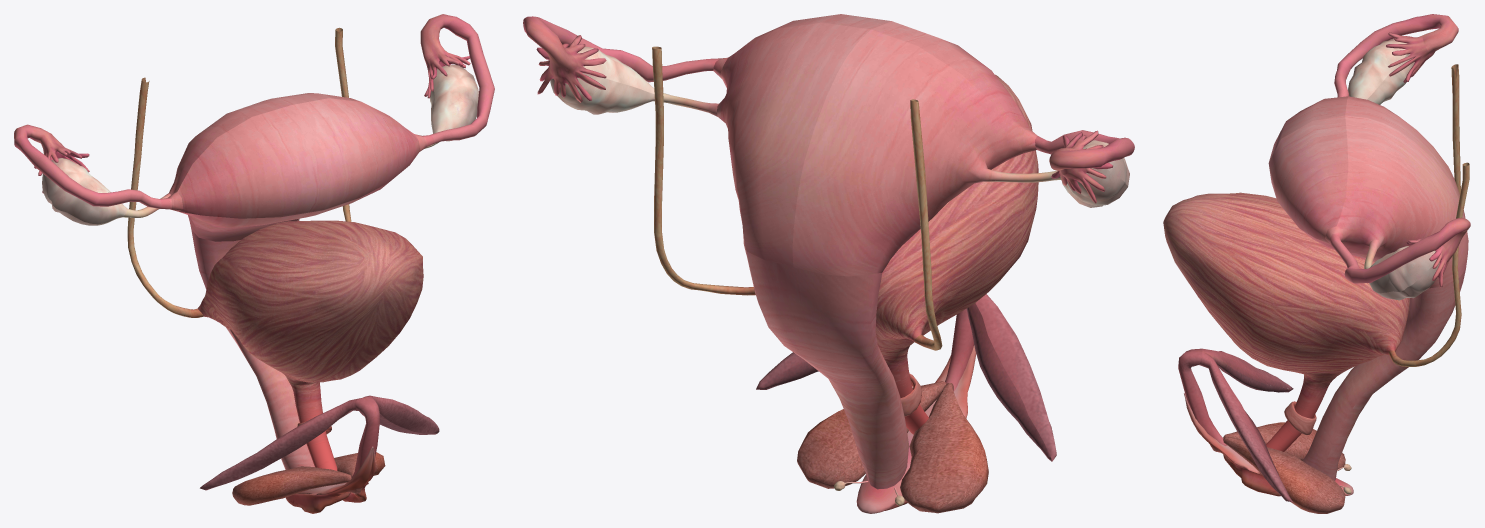
File: female_urinary_system.fbx
3 views of the same model, side by side, from view 1: azimuth 30°, elevation 25°; view 2: azimuth 150°, elevation 25°; view 3: azimuth 270°, elevation 25° (orthographic). The views are drawn at different scales.
Visible parts, largest first — view 1: Bladder__body__R_half_Female_300024, Uterus__fundus__R_half_Female_300031, Uterus__fundus__L_half_Female_001463, Bladder__body__L_half_Female_300019, Uterus__body__R_half_Female_300033, Vagina_Female_001467, Fallopian_tube__oviduct__uterine_tubes__salpinx___L_Fem_6a12, Fallopian_tube__oviduct__uterine_tubes__salpinx___R_Fem_e0de, Clitoral_crus__R_Female_302544, Vestibular_bulb__clitoral_bulb___R_Female_302549, Ovary__anterior_half__L_Female_020388, Ovary__anterior_half__R_Female_020390 (+11 smaller); view 2: Uterus__body__R_half_Female_300033, Uterus__body__L_half_Female_001462, Vagina_Female_001467, Bladder__body__R_half_Female_300024, Vestibular_bulb__clitoral_bulb___R_Female_302549, Vestibular_bulb__clitoral_bulb___L_Female_302548, Clitoral_crus__R_Female_302544, Fallopian_tube__oviduct__uterine_tubes__salpinx___L_Fem_6a12, Uterus__fundus__R_half_Female_300031, Ureter__L_Female_001582, Corpus_cavernosum__R_Female_302545, Ureter__R_Female_001575 (+12 smaller); view 3: Bladder__body__L_half_Female_300019, Uterus__body__L_half_Female_001462, Uterus__fundus__L_half_Female_001463, Vagina_Female_001467, Vestibular_bulb__clitoral_bulb___L_Female_302548, Fallopian_tube__oviduct__uterine_tubes__salpinx___R_Fem_e0de, Fallopian_tube__oviduct__uterine_tubes__salpinx___L_Fem_6a12, Clitoral_crus__L_Female_302543, Uterus__body__R_half_Female_300033, Ovary__anterior_half__R_Female_020390, Ureter__L_Female_001582, Clitoral_shaft_Female_302542 (+15 smaller).
Part boxes in pixels (x1=…): Bladder__body__R_half_Female_300024: x1=197, y1=221, x2=383, y2=382; Uterus__fundus__R_half_Female_300031: x1=177, y1=105, x2=330, y2=218; Uterus__fundus__L_half_Female_001463: x1=291, y1=98, x2=420, y2=209; Bladder__body__L_half_Female_300019: x1=297, y1=220, x2=423, y2=380; Uterus__body__R_half_Female_300033: x1=169, y1=98, x2=322, y2=241; Vagina_Female_001467: x1=191, y1=218, x2=314, y2=469; Fallopian_tube__oviduct__uterine_tubes__salpinx___L_Fem_6a12: x1=420, y1=14, x2=494, y2=146; Fallopian_tube__oviduct__uterine_tubes__salpinx___R_Fem_e0de: x1=14, y1=124, x2=172, y2=209; Clitoral_crus__R_Female_302544: x1=200, y1=397, x2=362, y2=490; Vestibular_bulb__clitoral_bulb___R_Female_302549: x1=232, y1=466, x2=351, y2=505; Ovary__anterior_half__L_Female_020388: x1=432, y1=65, x2=478, y2=133; Ovary__anterior_half__R_Female_020390: x1=44, y1=158, x2=127, y2=224; Uterus__body__R_half_Female_300033: x1=792, y1=29, x2=1025, y2=276; Uterus__body__L_half_Female_001462: x1=717, y1=22, x2=870, y2=267; Vagina_Female_001467: x1=744, y1=246, x2=908, y2=489; Bladder__body__R_half_Female_300024: x1=875, y1=74, x2=1038, y2=351; Vestibular_bulb__clitoral_bulb___R_Female_302549: x1=900, y1=383, x2=988, y2=513; Vestibular_bulb__clitoral_bulb___L_Female_302548: x1=797, y1=381, x2=946, y2=488; Clitoral_crus__R_Female_302544: x1=975, y1=294, x2=1056, y2=461; Fallopian_tube__oviduct__uterine_tubes__salpinx___L_Fem_6a12: x1=523, y1=16, x2=720, y2=82; Uterus__fundus__R_half_Female_300031: x1=871, y1=21, x2=1030, y2=130; Ureter__L_Female_001582: x1=652, y1=46, x2=755, y2=295; Corpus_cavernosum__R_Female_302545: x1=966, y1=303, x2=1051, y2=461; Ureter__R_Female_001575: x1=910, y1=99, x2=942, y2=350; Bladder__body__L_half_Female_300019: x1=1163, y1=199, x2=1409, y2=373; Uterus__body__L_half_Female_001462: x1=1300, y1=115, x2=1468, y2=288; Uterus__fundus__L_half_Female_001463: x1=1268, y1=115, x2=1348, y2=243; Vagina_Female_001467: x1=1302, y1=270, x2=1465, y2=480; Vestibular_bulb__clitoral_bulb___L_Female_302548: x1=1223, y1=437, x2=1345, y2=513; Fallopian_tube__oviduct__uterine_tubes__salpinx___R_Fem_e0de: x1=1334, y1=14, x2=1458, y2=97; Fallopian_tube__oviduct__uterine_tubes__salpinx___L_Fem_6a12: x1=1330, y1=218, x2=1470, y2=283; Clitoral_crus__L_Female_302543: x1=1199, y1=351, x2=1292, y2=502; Uterus__body__R_half_Female_300033: x1=1345, y1=96, x2=1465, y2=218; Ovary__anterior_half__R_Female_020390: x1=1348, y1=39, x2=1407, y2=99; Ureter__L_Female_001582: x1=1388, y1=162, x2=1469, y2=366; Clitoral_shaft_Female_302542: x1=1178, y1=348, x2=1223, y2=444.
Bounding box in the file's own units: 0.6763 × 0.395 × 0.5456.
